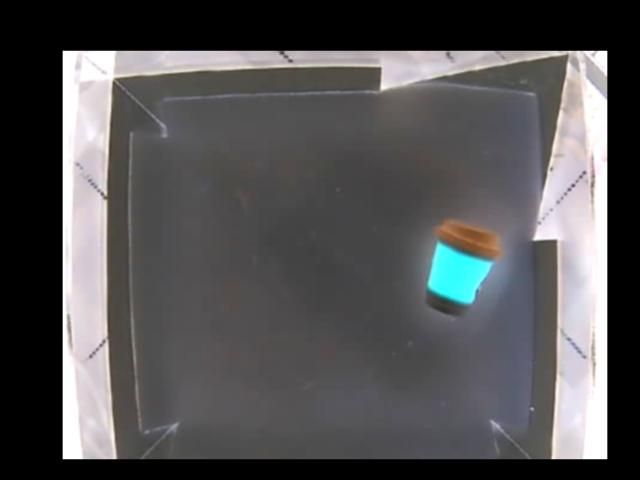Cup: (423, 219, 500, 317)
